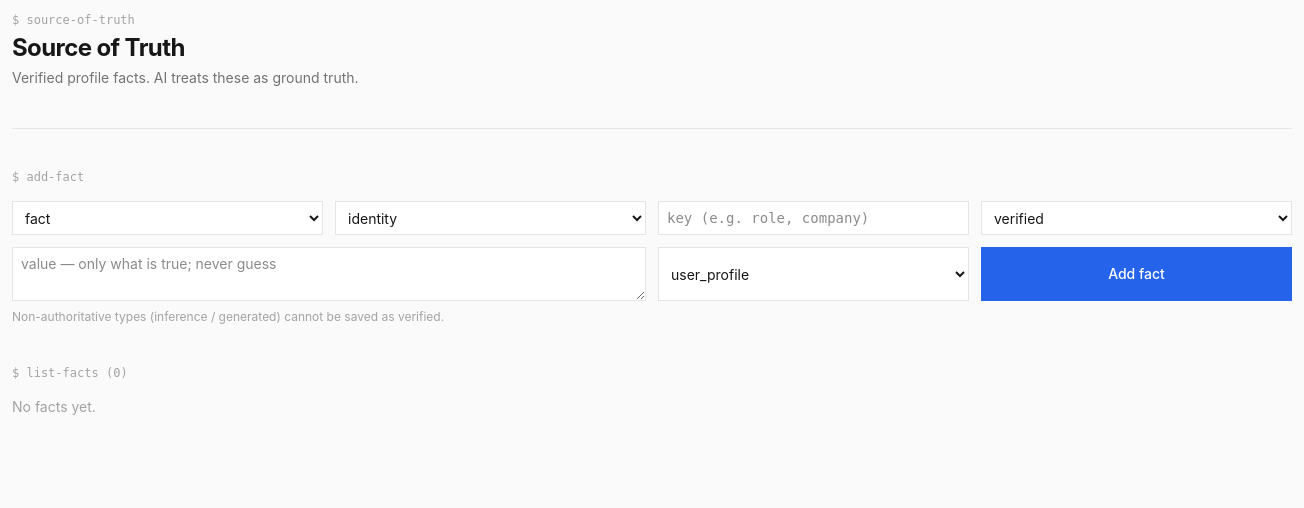
Test: ProfileFactsPage › submits a new fact through the service and reloads
This screenshot has width=1304, height=508.
Expected: the text "$ add-fact" is shown, [12,170,84,184]
Type "Role" into the field labelled "key" at x=814, y=218, box [658,201,969,235]
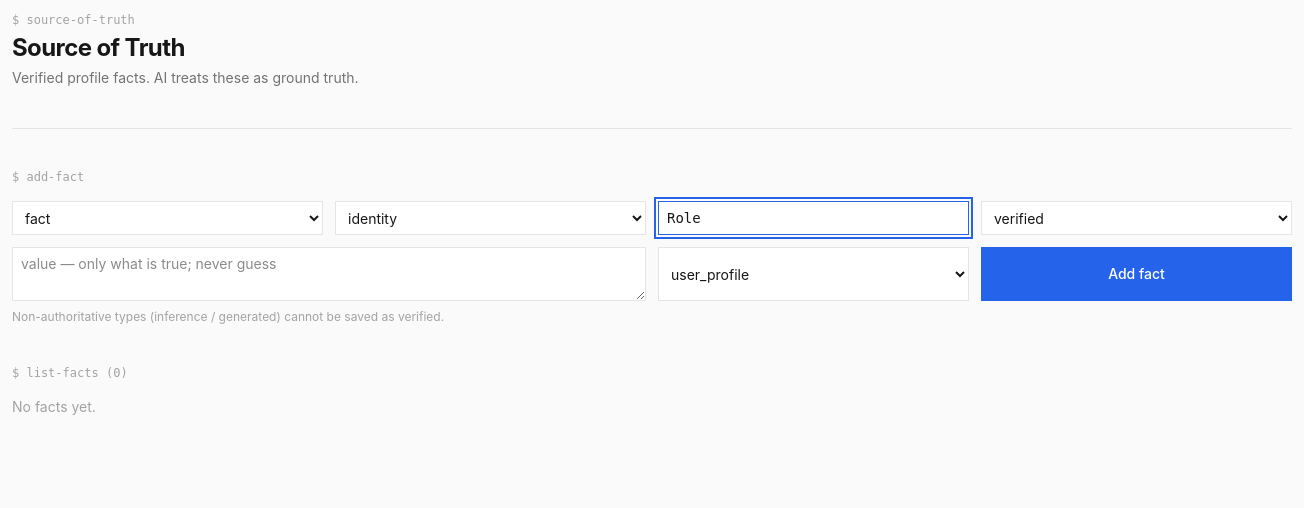
Type "Junior Developer Intern" into the text box labelled "value" at x=329, y=274, box [12,247,646,301]
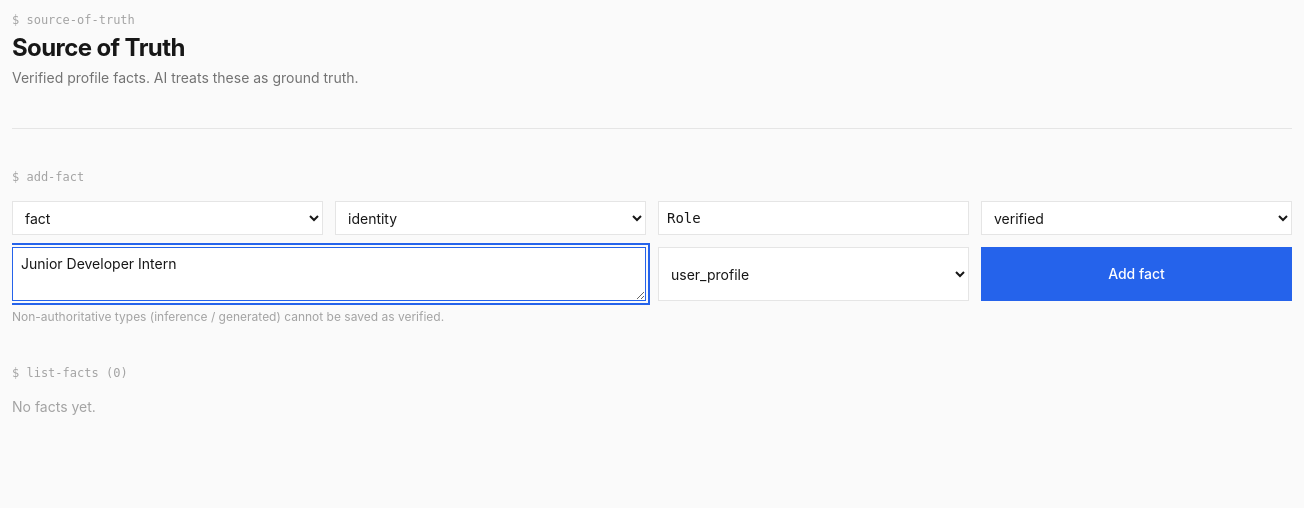
Click the button "Add fact" at x=1136, y=274, box [981,247,1292,301]
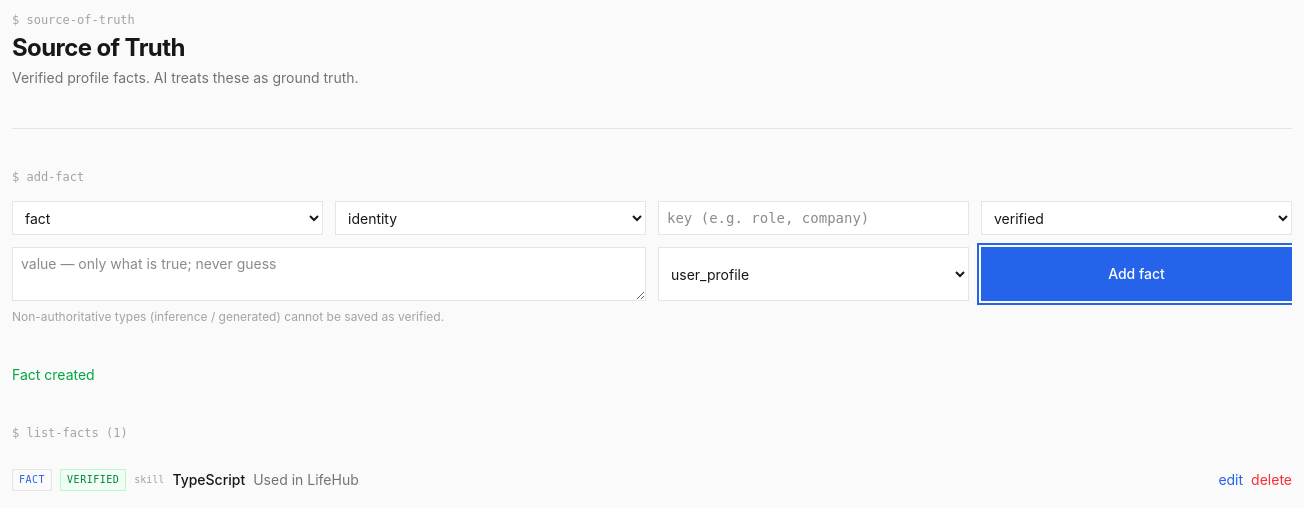
Result: the text "$ list-facts (1)" is shown at [12,426,128,440]
